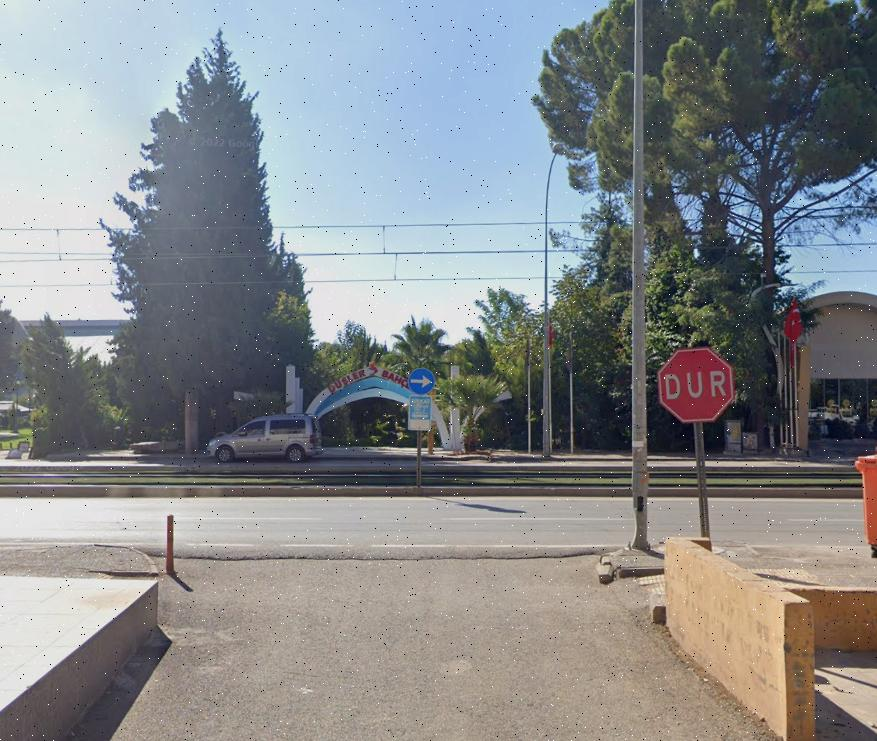stop: (664, 350, 731, 425)
turnright: (410, 369, 435, 394)
